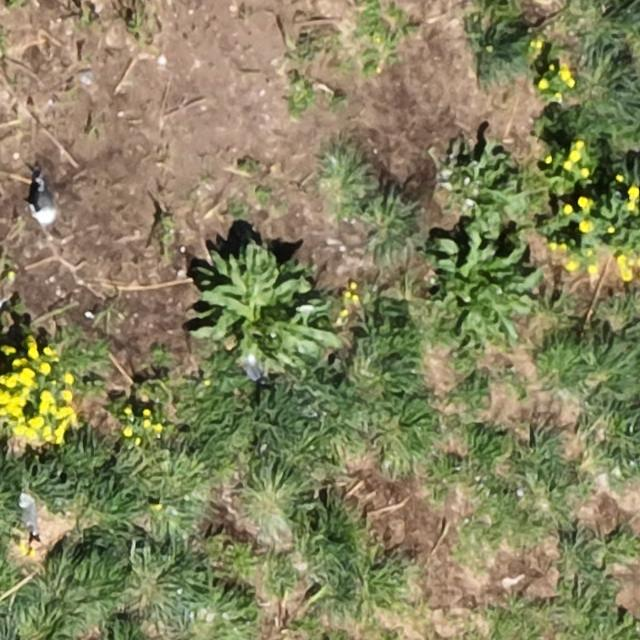umineko: (36, 183, 56, 223), (20, 495, 39, 535)
